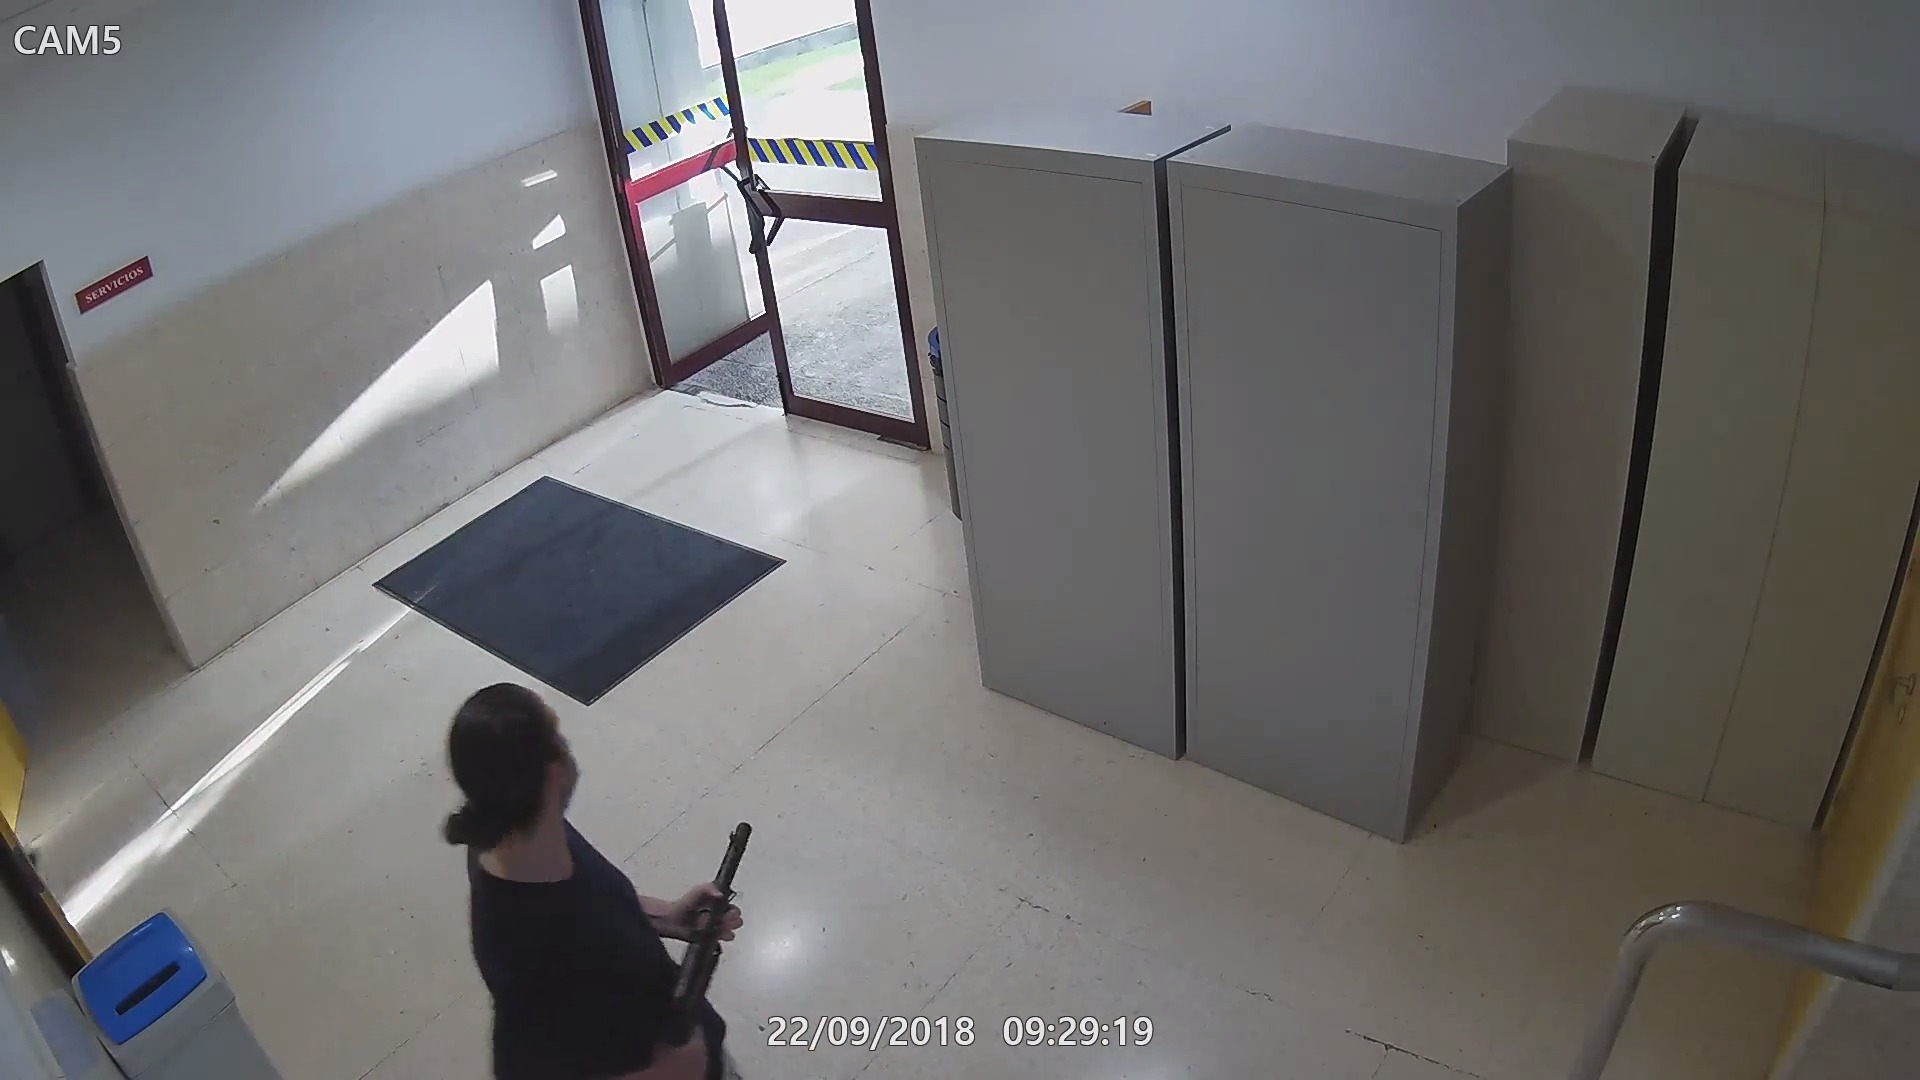Short_rifle: (657, 816, 760, 1080)
